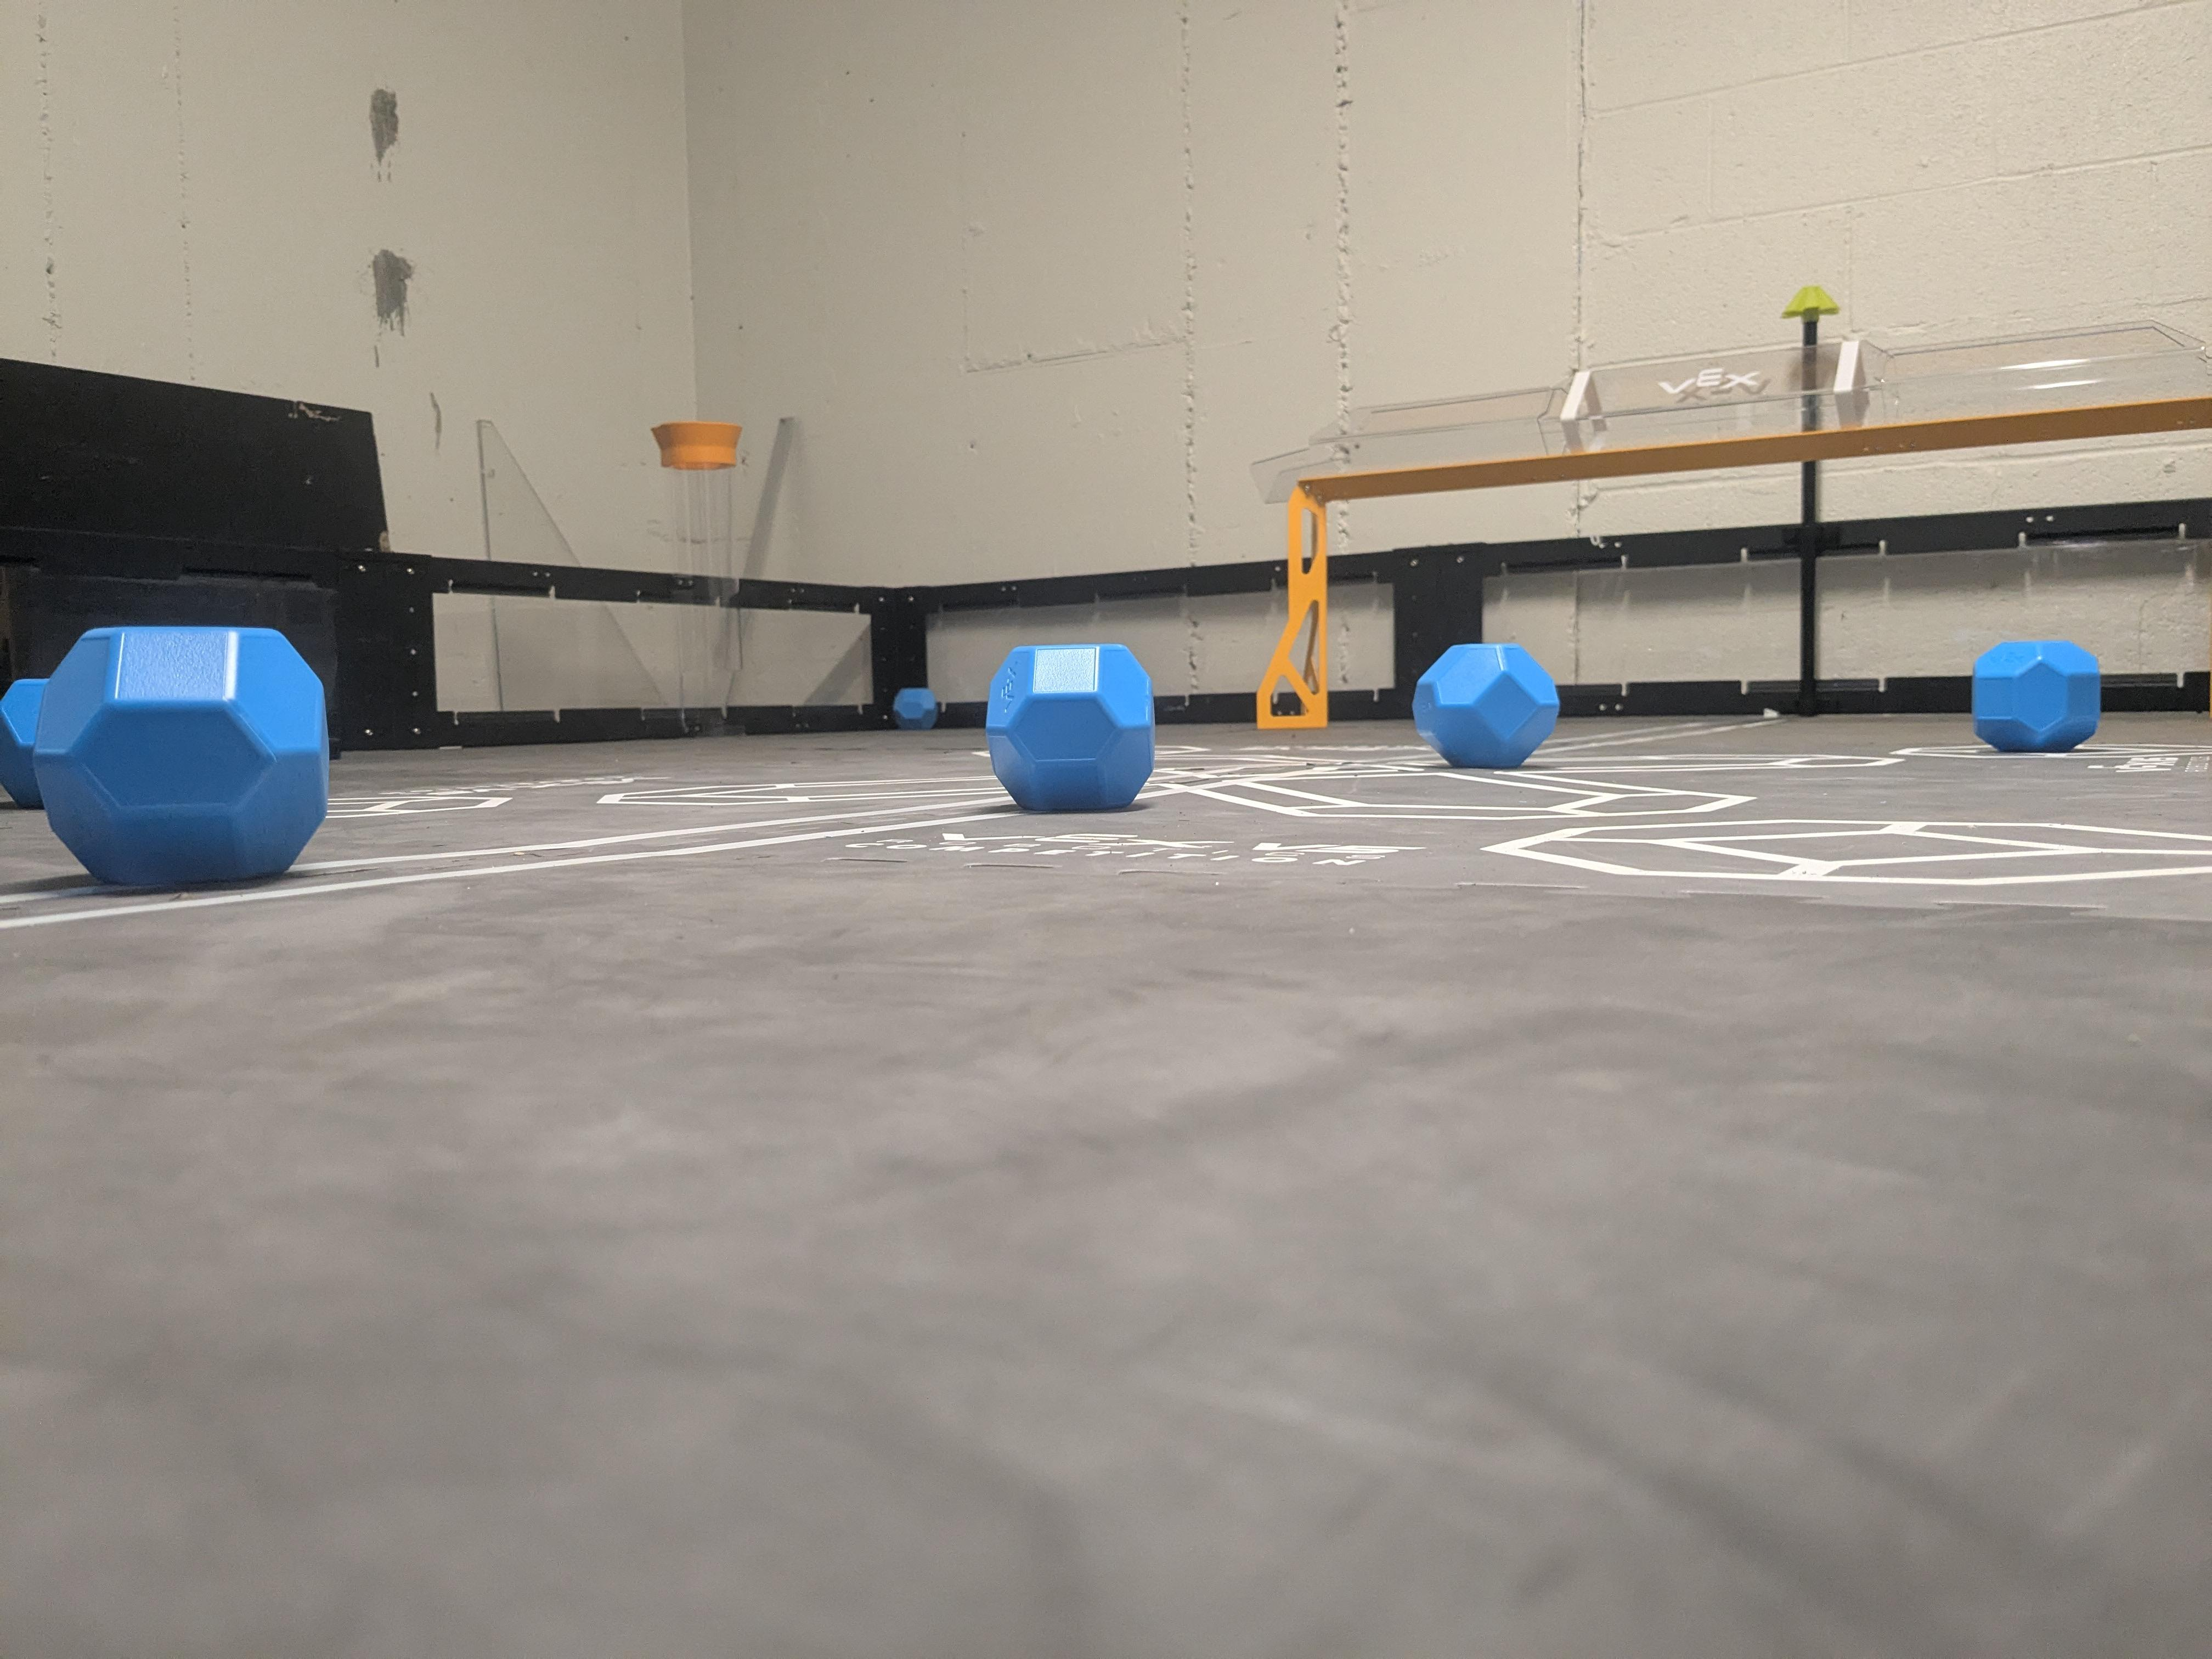Vex-Pieces-BLUE: (3, 627, 331, 885), (984, 645, 1155, 809), (1413, 643, 1559, 765), (1970, 640, 2097, 749)
